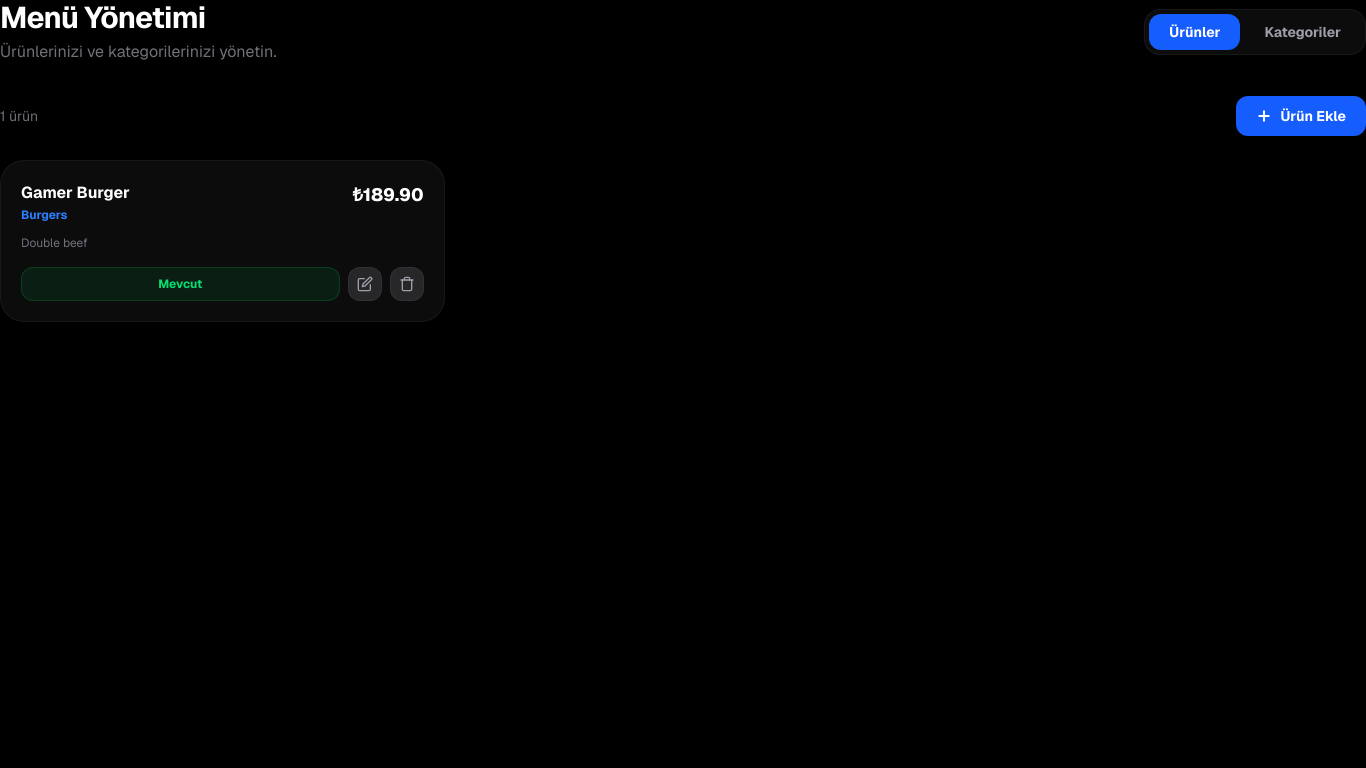
Test: Admin Menu Page › Categories Tab › should open create category modal
Click the button "Kategoriler".
click(1303, 32)  # box [1244,14,1361,50]
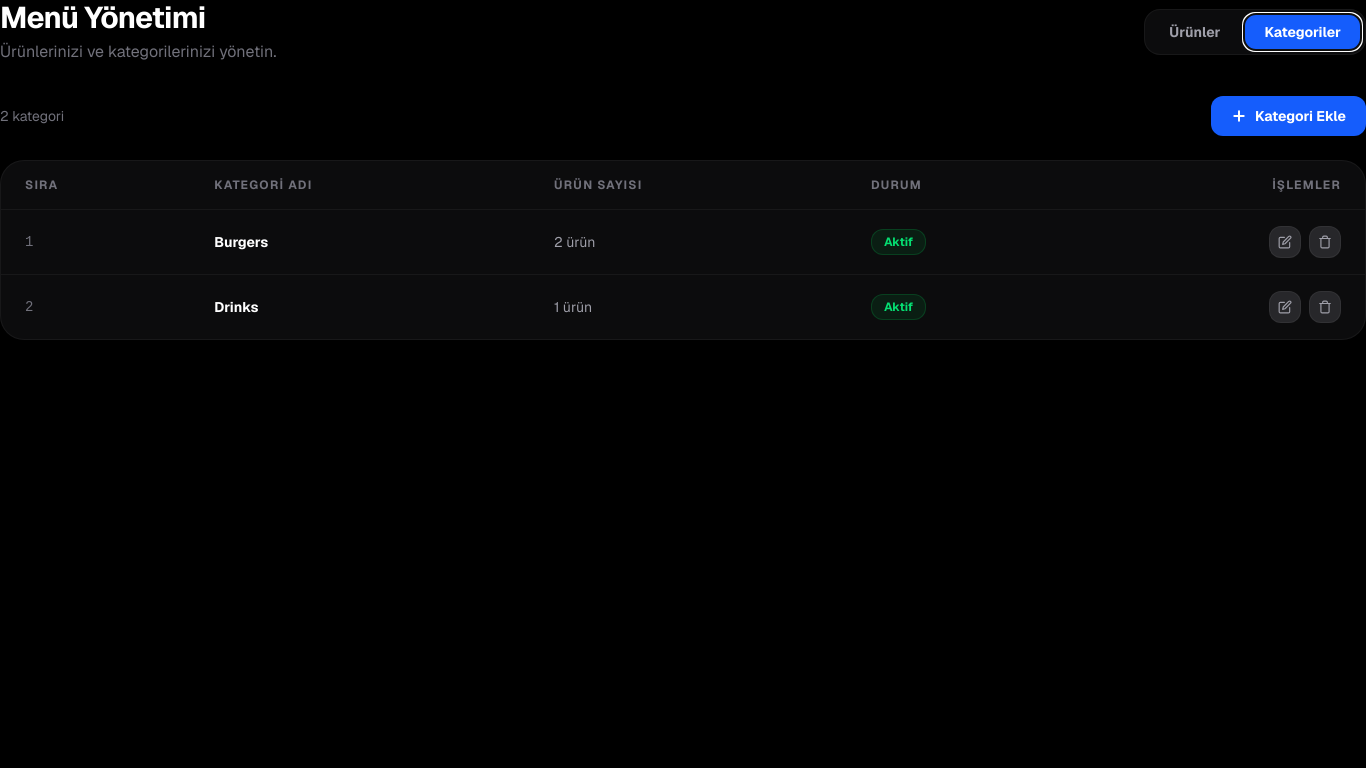
Click the button "Kategori Ekle".
click(1288, 116)  # box [1211,96,1365,136]
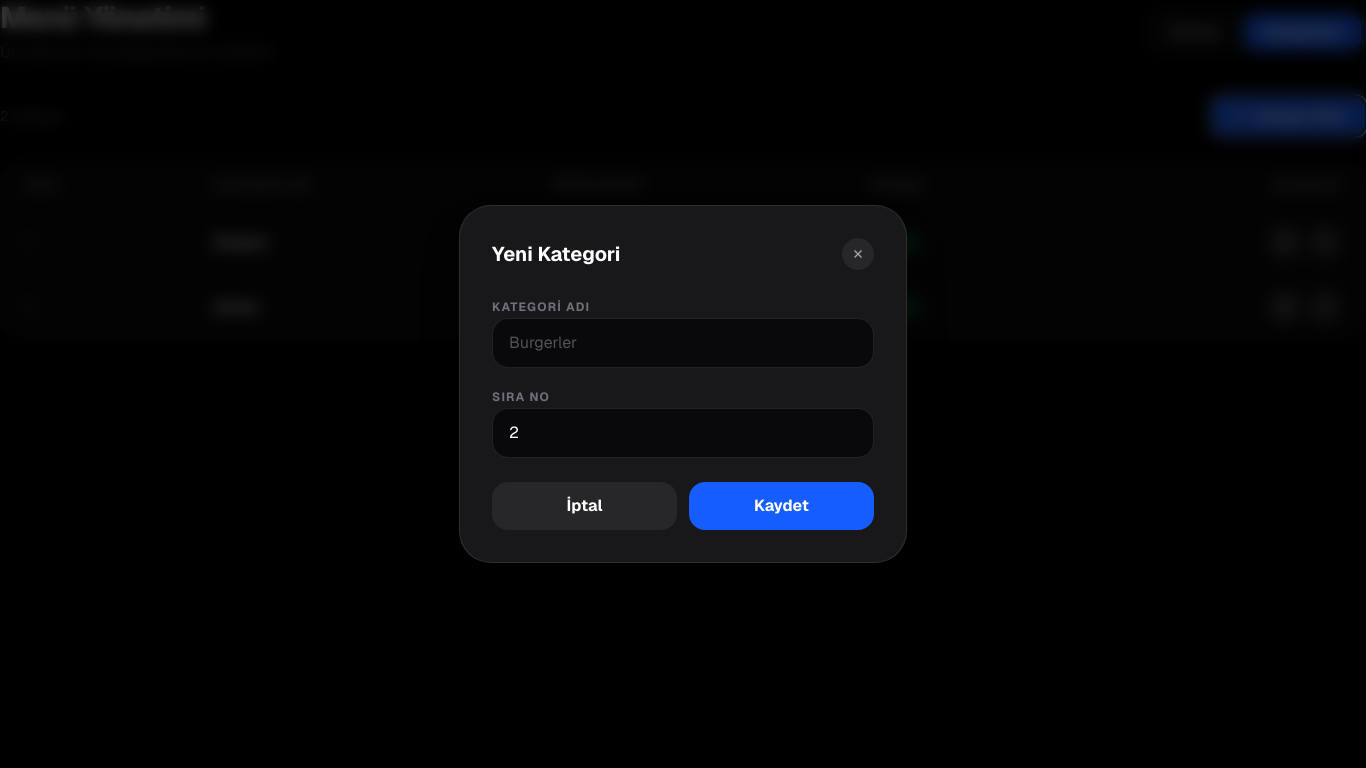
expect the heading "Yeni Kategori" is shown: met, box [492,240,620,268]
